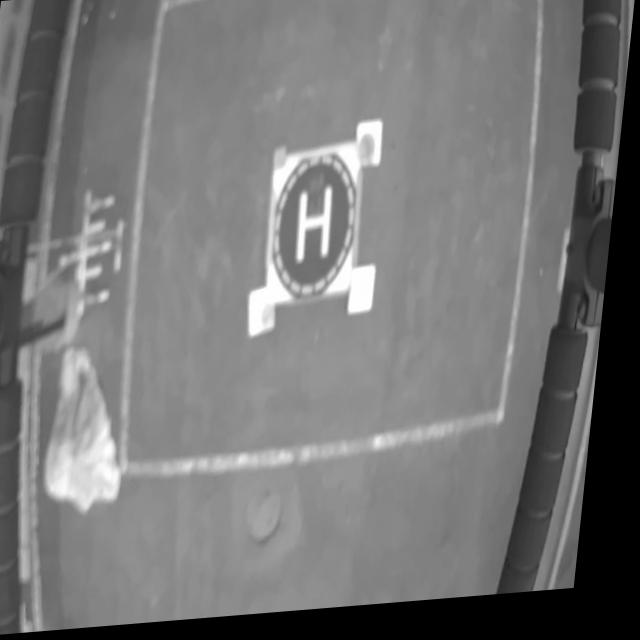Helipad: (301, 189, 337, 266)
